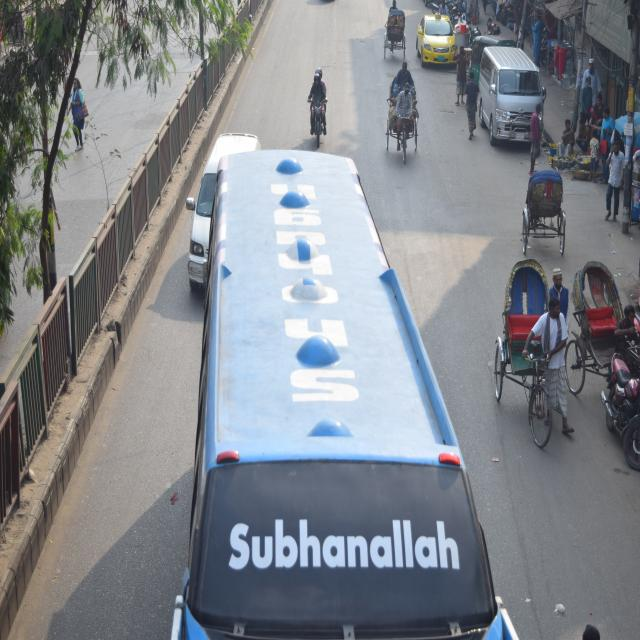bus: (204, 145, 449, 640)
car: (415, 8, 457, 65)
microbus: (479, 50, 543, 158)
motorbike: (302, 78, 343, 143)
